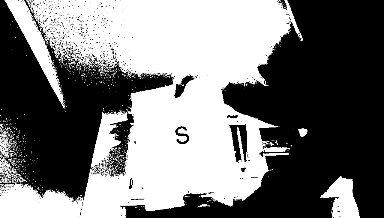S: (169, 122, 193, 144)
